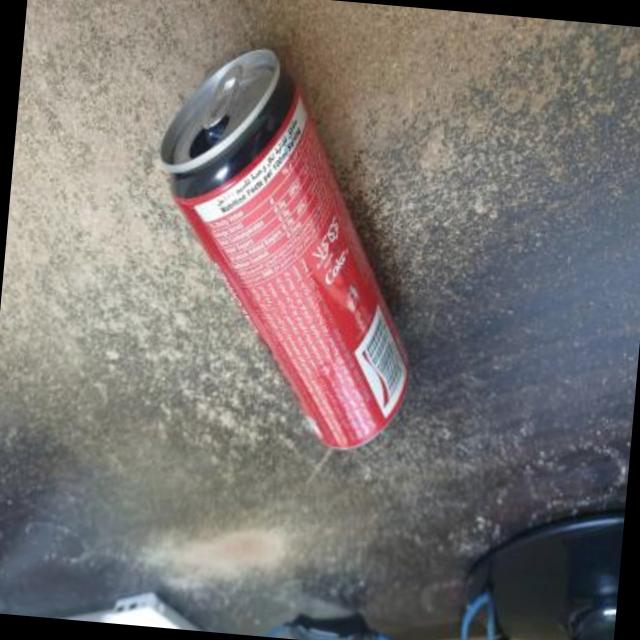metal: (163, 51, 409, 450)
